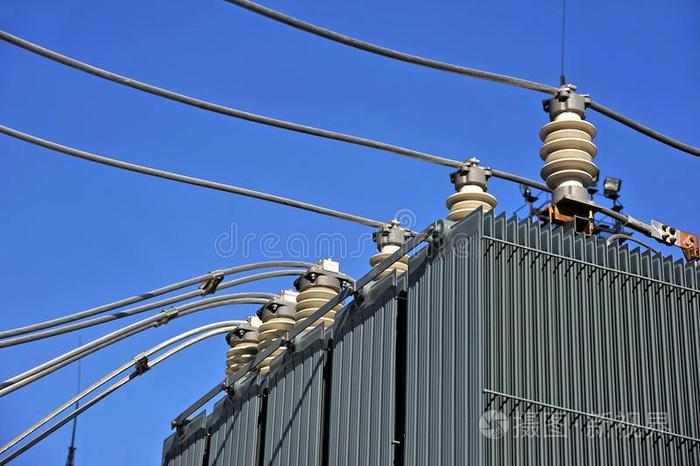insulator: (538, 115, 601, 187), (295, 289, 341, 332)
